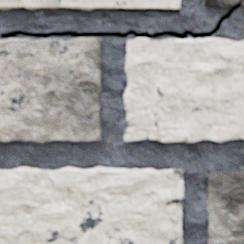brick: (0, 166, 184, 243), (124, 37, 243, 142), (0, 37, 102, 142), (206, 170, 243, 243), (0, 0, 180, 10)
broken_brick: (206, 0, 240, 6)
crack: (1, 0, 241, 39)
